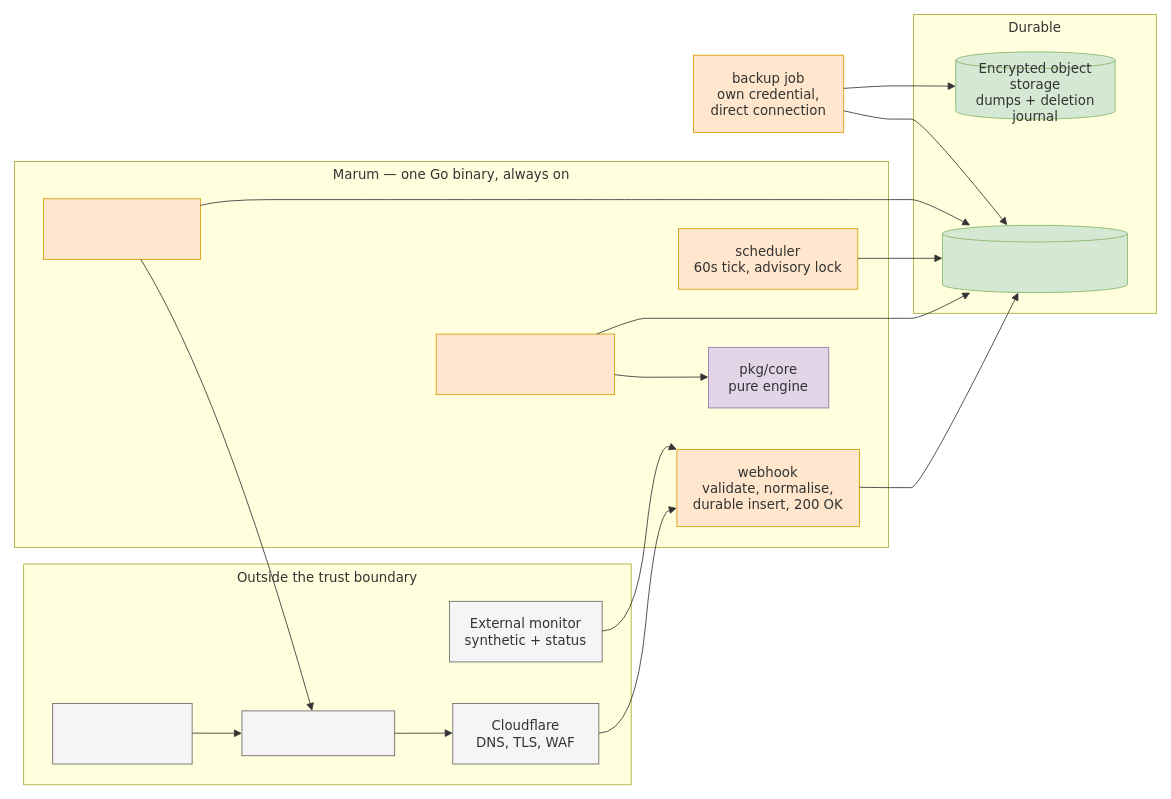
Some shapes in this 1171 by 799 pixel diagram are drawn without their labels. Each missing label, with the centre of its shape:
Borrower Telegram client: point 122,733
command worker lease, apply, enqueue: point 525,364
Managed PostgreSQL inbox · ledger · state · outbox: point 1035,259
sender single leader, 28/s: point 121,228
Telegram Bot API: point 318,733
